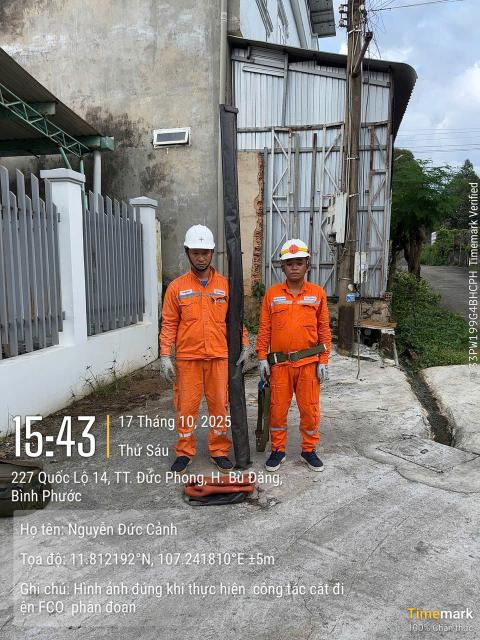gloves: (156, 353, 180, 387), (315, 363, 333, 389), (235, 347, 252, 374), (257, 358, 273, 385)
harness: (266, 345, 330, 365)
helmet: (175, 218, 225, 254), (278, 239, 313, 266)
shoes: (165, 448, 196, 477), (298, 446, 328, 473), (263, 446, 291, 473), (211, 451, 235, 474)
